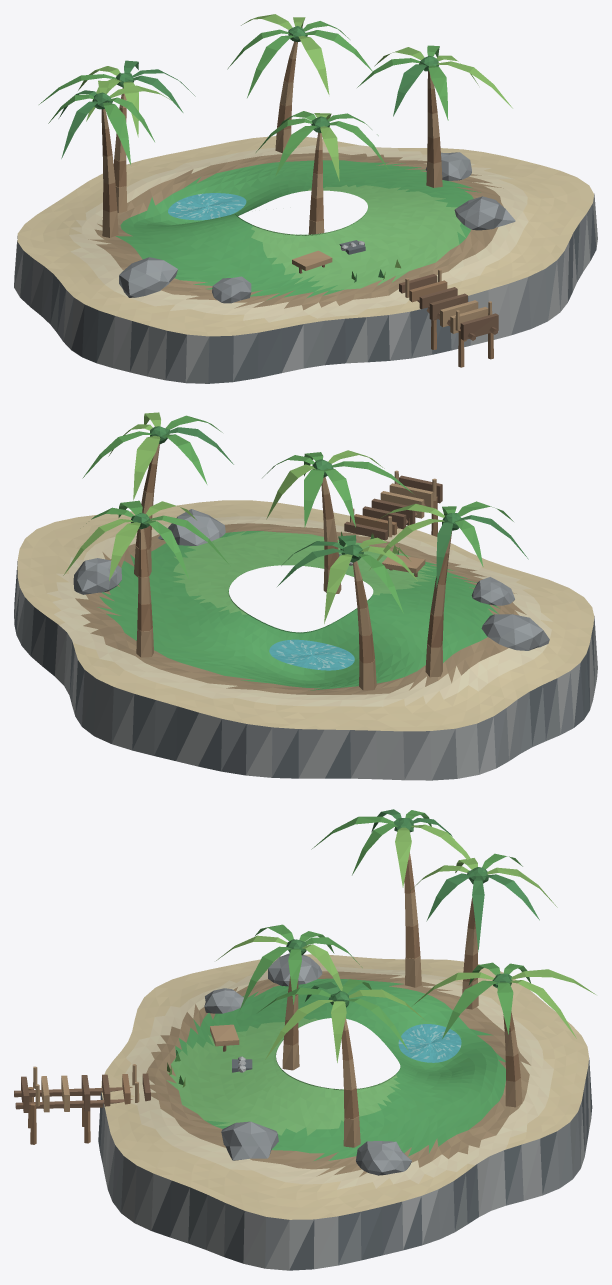
File: island_cove_small.glb
The picture shows the model from 3 angles, top to bottom: view 1: azimuth 30°, elevation 25°; view 2: azimuth 150°, elevation 25°; view 3: azimuth 270°, elevation 25°; orthographic projection. The views are drawn at different scales.
Visible parts, largest first — view 1: Cove_small_sand_and_grass, Cove_small_submerged_rock_rim, Cove_small_beach_rock_0, Cove_small_spring, Cove_small_beach_rock_1, Cove_small_beach_rock_3, Cove_small_beach_rock_2, Cove_small_pier_deckplank_6, Cove_small_palm_0_frond_2, Cove_small_palm_2_frond_2, Cove_small_palm_2_frond_3, Cove_small_palm_3_frond_3 (+4 smaller); view 2: Cove_small_sand_and_grass, Cove_small_submerged_rock_rim, Cove_small_spring, Cove_small_beach_rock_0, Cove_small_beach_rock_2, Cove_small_beach_rock_1, Cove_small_beach_rock_3, Cove_small_palm_3_frond_5, Cove_small_palm_1_frond_5, Cove_small_palm_2_frond_5, Cove_small_palm_4_frond_5, Cove_small_palm_4_frond_4 (+10 smaller); view 3: Cove_small_sand_and_grass, Cove_small_submerged_rock_rim, Cove_small_spring, Cove_small_beach_rock_1, Cove_small_beach_rock_2, Cove_small_beach_rock_0, Cove_small_beach_rock_3, Cove_small_palm_2_frond_1, Cove_small_palm_0_frond_0, Cove_small_palm_4_frond_1.
Part boxes in pixels (x1=…): Cove_small_sand_and_grass: x1=17, y1=136, x2=594, y2=336; Cove_small_submerged_rock_rim: x1=14, y1=193, x2=597, y2=383; Cove_small_beach_rock_0: x1=119, y1=257, x2=177, y2=297; Cove_small_spring: x1=168, y1=193, x2=246, y2=220; Cove_small_beach_rock_1: x1=454, y1=196, x2=515, y2=230; Cove_small_beach_rock_3: x1=212, y1=276, x2=251, y2=303; Cove_small_beach_rock_2: x1=425, y1=152, x2=471, y2=180; Cove_small_pier_deckplank_6: x1=460, y1=313, x2=498, y2=340; Cove_small_palm_0_frond_2: x1=103, y1=102, x2=130, y2=164; Cove_small_palm_2_frond_2: x1=298, y1=36, x2=329, y2=94; Cove_small_palm_2_frond_3: x1=247, y1=35, x2=293, y2=97; Cove_small_palm_3_frond_3: x1=393, y1=64, x2=426, y2=116; Cove_small_sand_and_grass: x1=17, y1=500, x2=594, y2=731; Cove_small_submerged_rock_rim: x1=14, y1=561, x2=597, y2=780; Cove_small_spring: x1=269, y1=639, x2=354, y2=670; Cove_small_beach_rock_0: x1=481, y1=614, x2=549, y2=650; Cove_small_beach_rock_2: x1=73, y1=558, x2=121, y2=594; Cove_small_beach_rock_1: x1=158, y1=509, x2=225, y2=545; Cove_small_beach_rock_3: x1=471, y1=577, x2=514, y2=605; Cove_small_palm_3_frond_5: x1=133, y1=436, x2=160, y2=500; Cove_small_palm_1_frond_5: x1=324, y1=554, x2=352, y2=623; Cove_small_palm_2_frond_5: x1=109, y1=522, x2=140, y2=580; Cove_small_palm_4_frond_5: x1=304, y1=469, x2=324, y2=527; Cove_small_palm_4_frond_4: x1=324, y1=469, x2=355, y2=527; Cove_small_sand_and_grass: x1=101, y1=954, x2=588, y2=1219; Cove_small_submerged_rock_rim: x1=98, y1=1058, x2=592, y2=1270; Cove_small_spring: x1=398, y1=1024, x2=461, y2=1062; Cove_small_beach_rock_1: x1=221, y1=1121, x2=278, y2=1160; Cove_small_beach_rock_2: x1=356, y1=1141, x2=411, y2=1175; Cove_small_beach_rock_0: x1=268, y1=953, x2=322, y2=986; Cove_small_beach_rock_3: x1=204, y1=988, x2=244, y2=1013; Cove_small_palm_2_frond_1: x1=442, y1=980, x2=497, y2=1038; Cove_small_palm_0_frond_0: x1=395, y1=827, x2=411, y2=887; Cove_small_palm_4_frond_1: x1=240, y1=946, x2=291, y2=1009.
Bounding box in the file's own units: 14.63 × 5.75 × 13.36.
